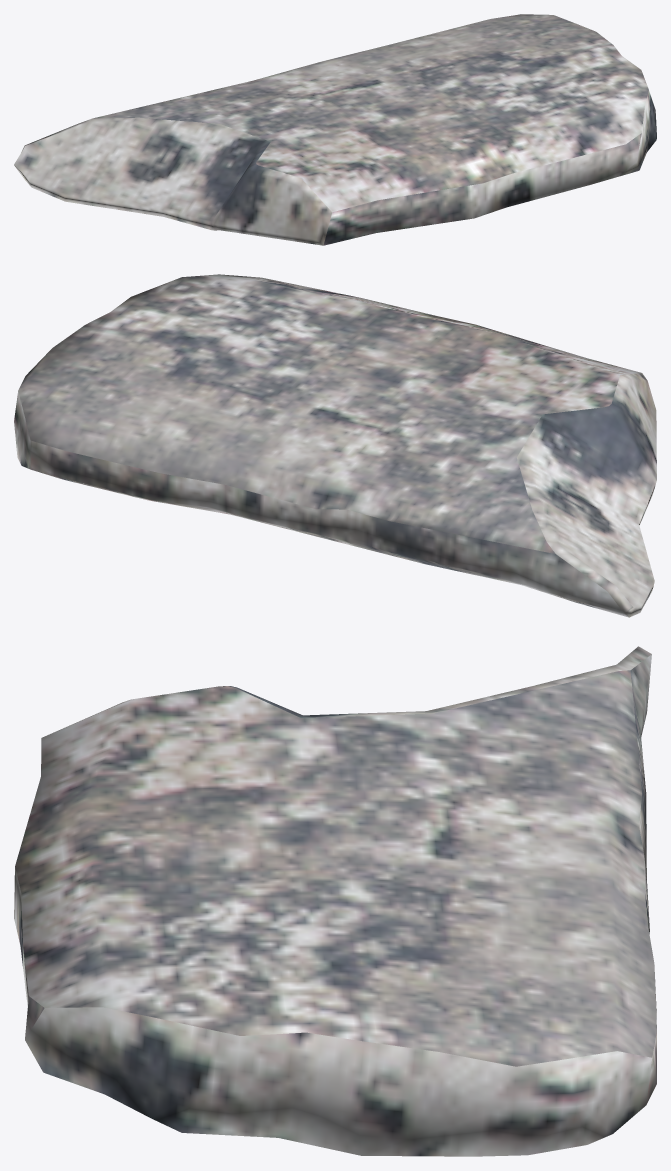
Rendered from SM_Path_Slab_E.fbx.
3 renders of one model, top to bottom at view 1: azimuth 30°, elevation 25°; view 2: azimuth 150°, elevation 25°; view 3: azimuth 270°, elevation 25°, orthographic. The views are drawn at different scales.
Parts seen in each view (by area): view 1: SM_Path_Slab_E_LOD0; view 2: SM_Path_Slab_E_LOD0; view 3: SM_Path_Slab_E_LOD0.
Part boxes in pixels (x1,y1,x2,y2): SM_Path_Slab_E_LOD0: [14, 14, 656, 245]; SM_Path_Slab_E_LOD0: [14, 274, 656, 617]; SM_Path_Slab_E_LOD0: [14, 646, 656, 1156].
Bounding box in the file's own units: 75.67 × 43.58 × 9.32.
Materials: 1 (1 with a texture image).
